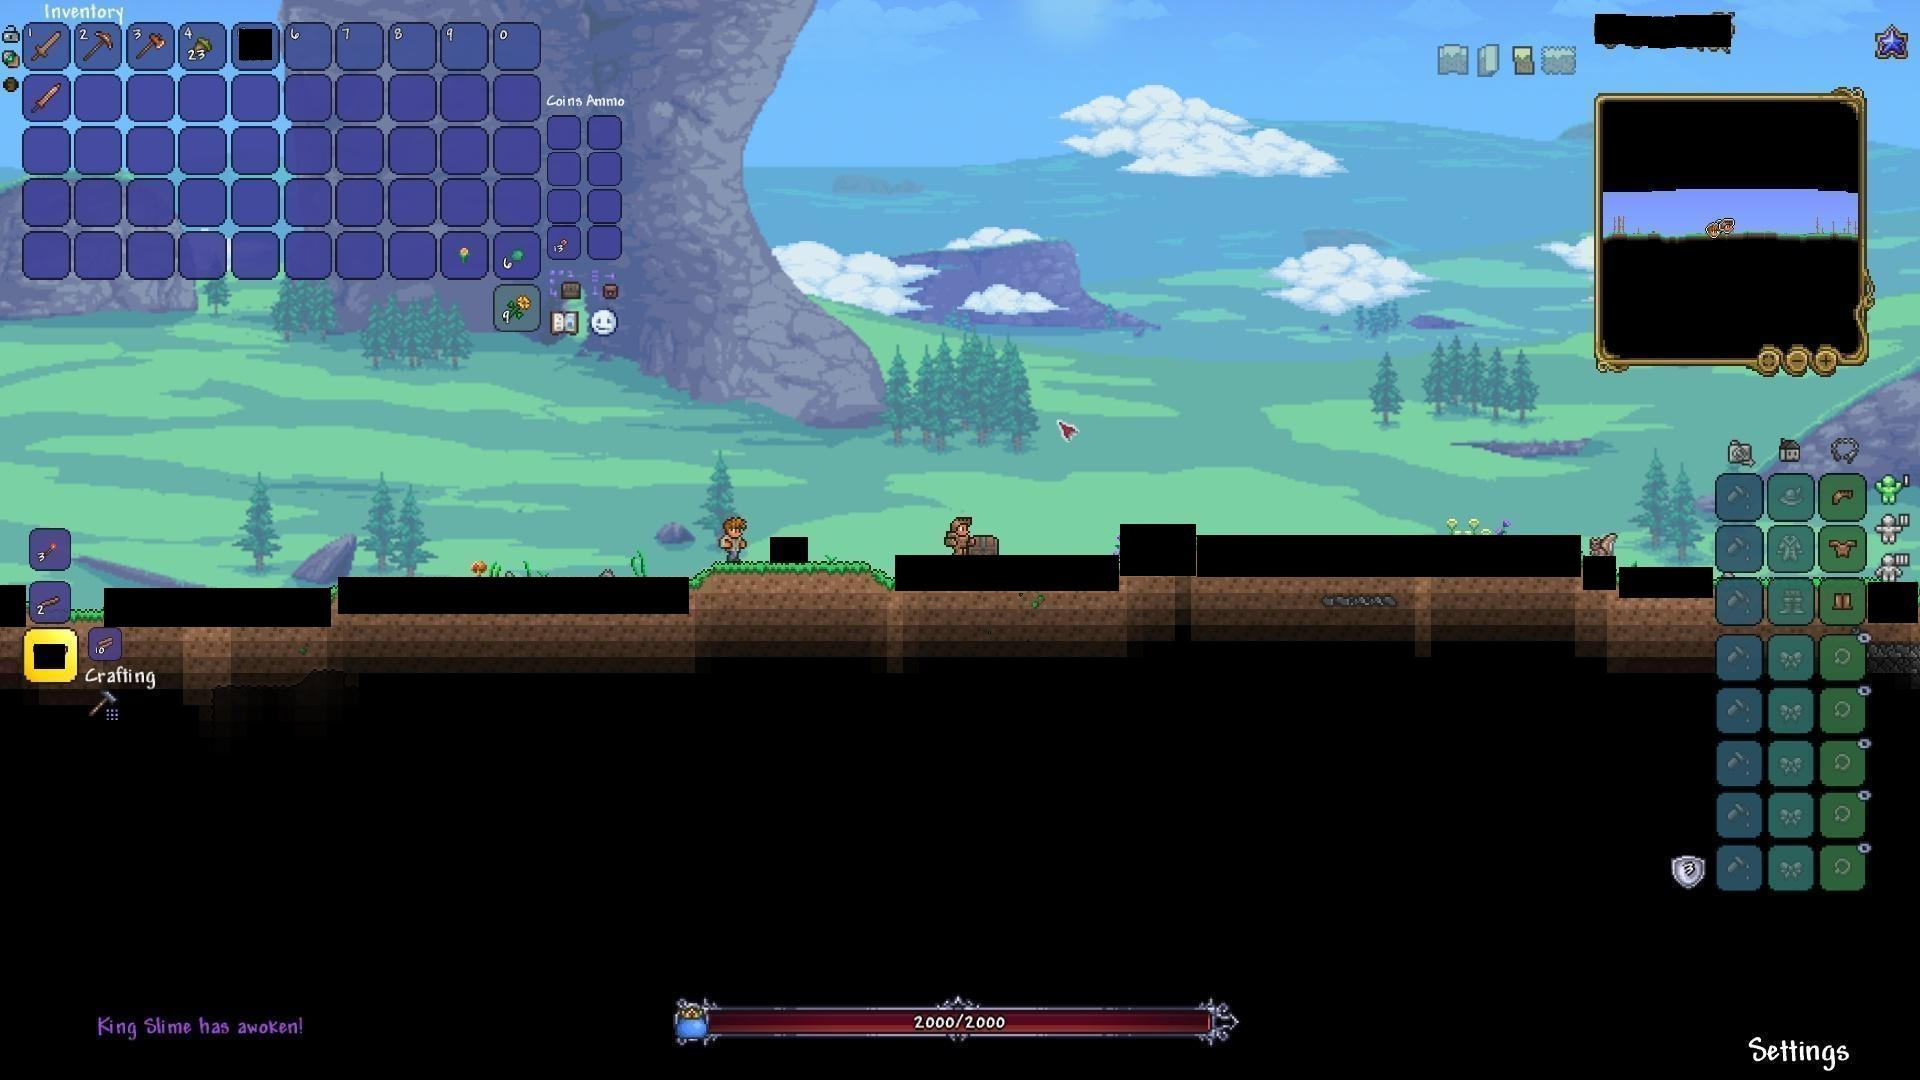breastplate: (1829, 537, 1859, 558)
dirt: (695, 560, 894, 597)
helmet: (1826, 483, 1858, 510)
legs: (1832, 588, 1855, 616)
wood: (88, 629, 120, 659)
